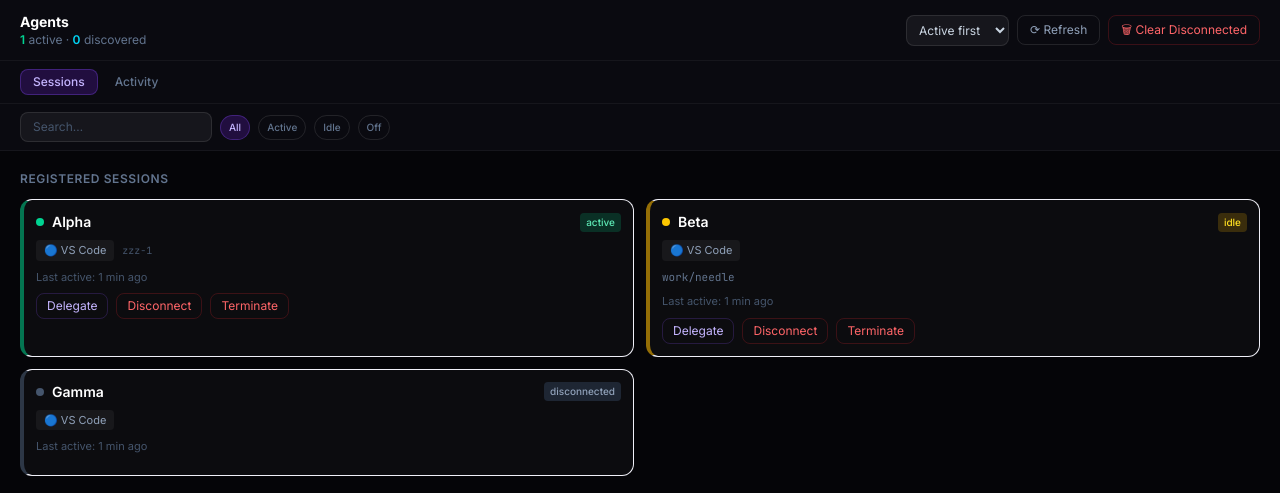
AgentsView — sessions › filters by status and by text over name, external id and project
The width and height of the screenshot is (1280, 493).
Step 1. Click the button "Idle" → [332, 127], box [314,114,350,140]
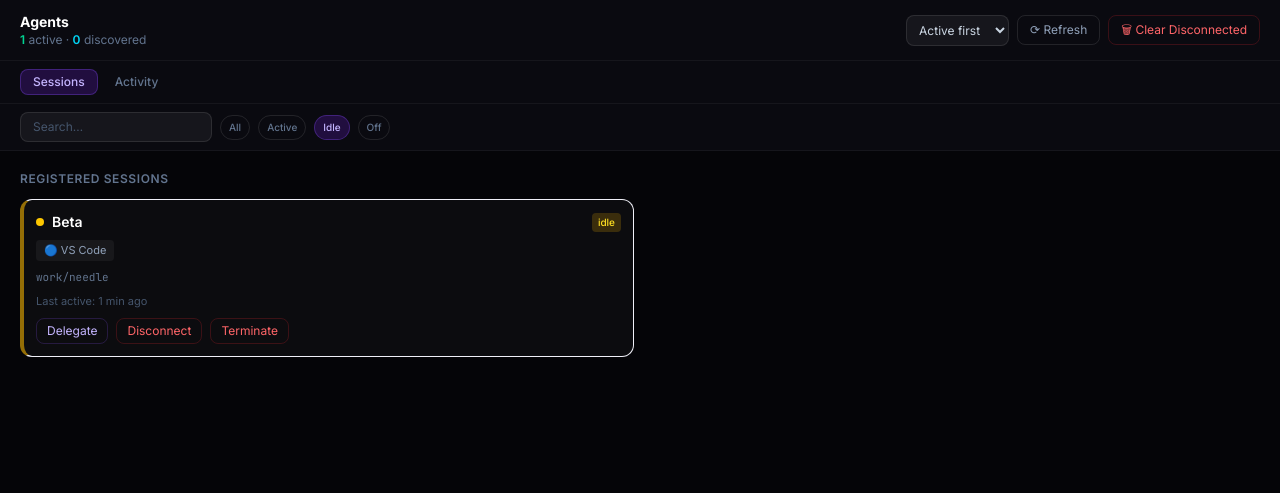
Step 2. Click the button "Off" → [374, 127], box [358,114,390,140]
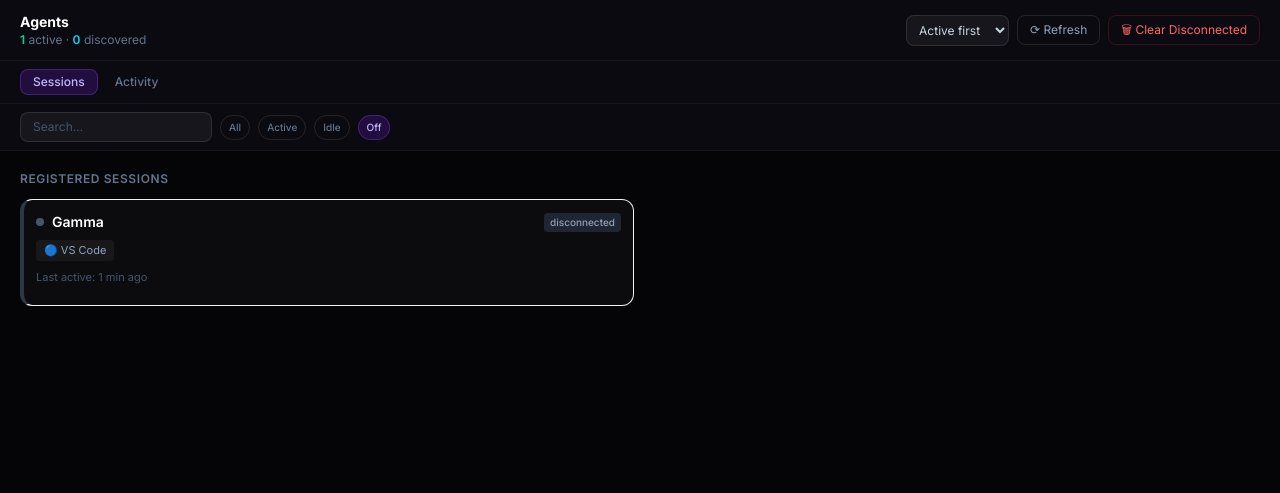
Step 3. Click the button "All" → [235, 127], box [220,114,250,140]
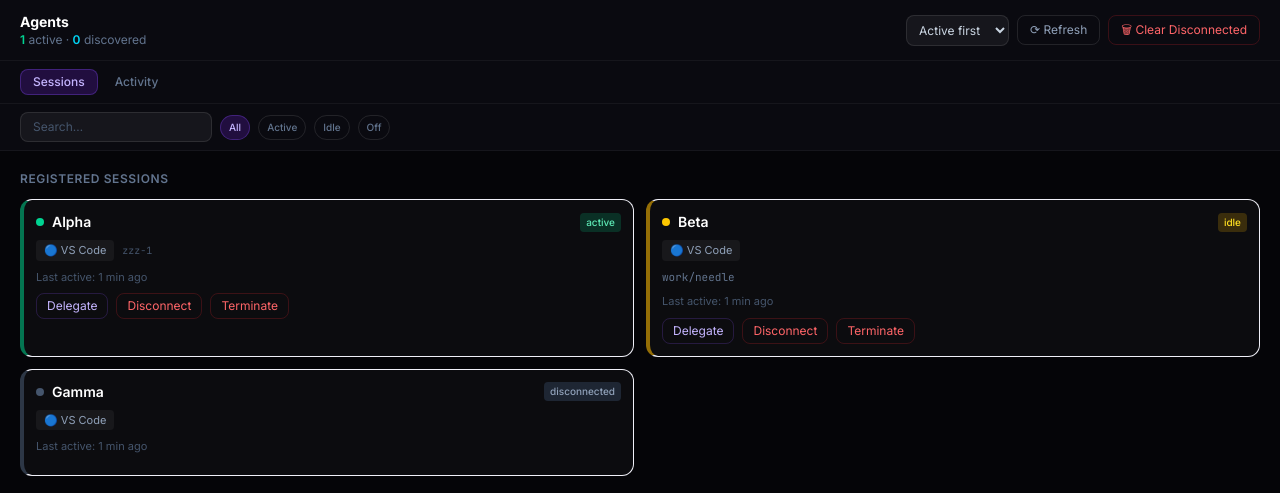
Step 4. Type "zzz" into the field with placeholder "Search…" → [116, 127], box [20,112,212,142]
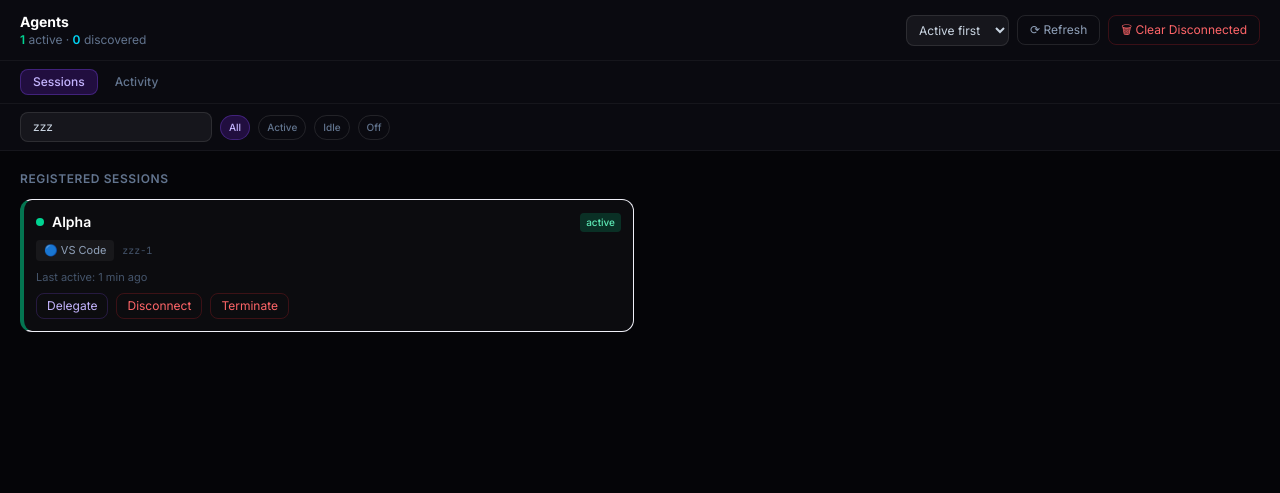
Step 5. Replace the text in the field with placeholder "Search…" with "needle" → [116, 127], box [20,112,212,142]
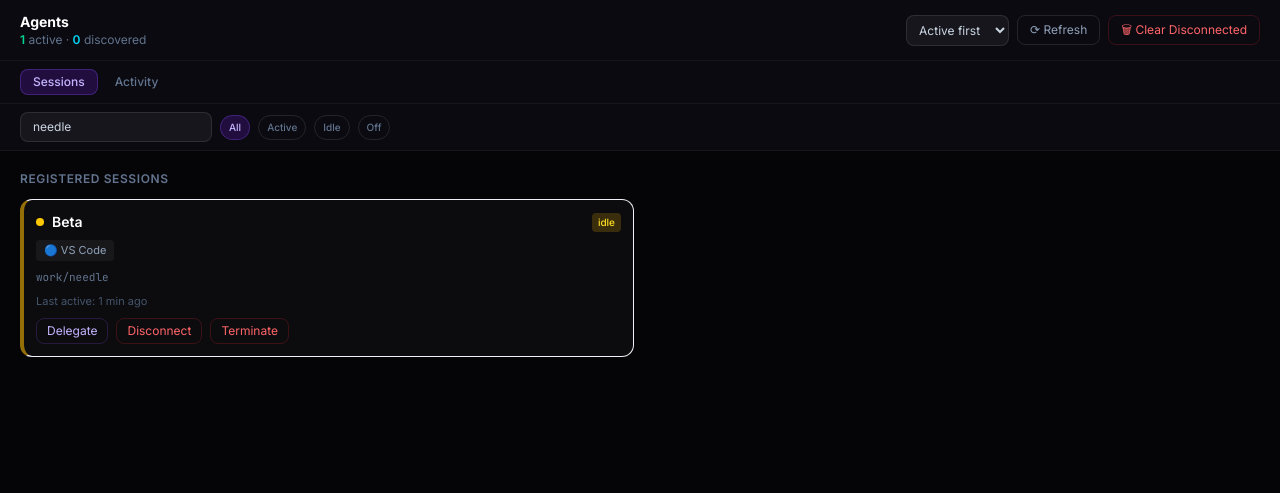
Check: the element that starts with "Beta" is shown, box [52,213,83,230]
Step 6. Replace the text in the field with placeholder "Search…" with "nothing-matches" → [116, 127], box [20,112,212,142]
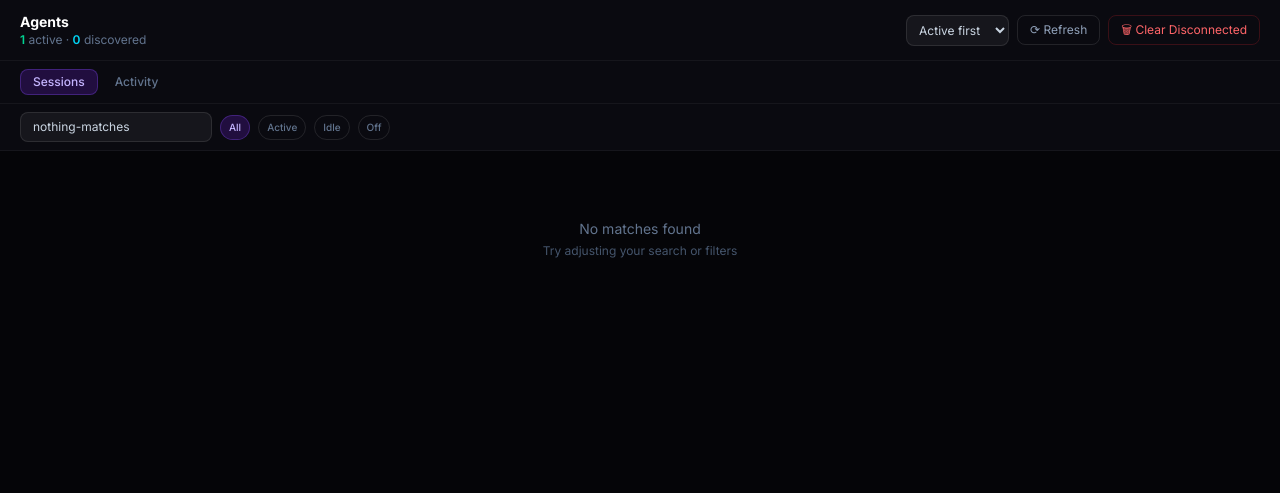
Check: the text "No matches found" is shown, box [579,219,701,239]
